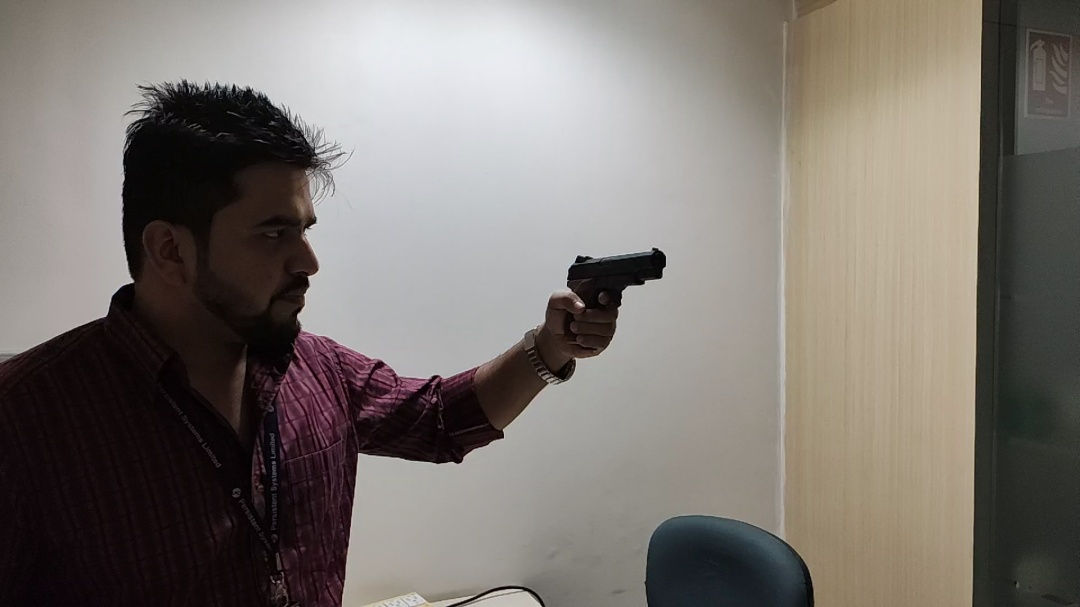gun: (566, 246, 678, 356)
